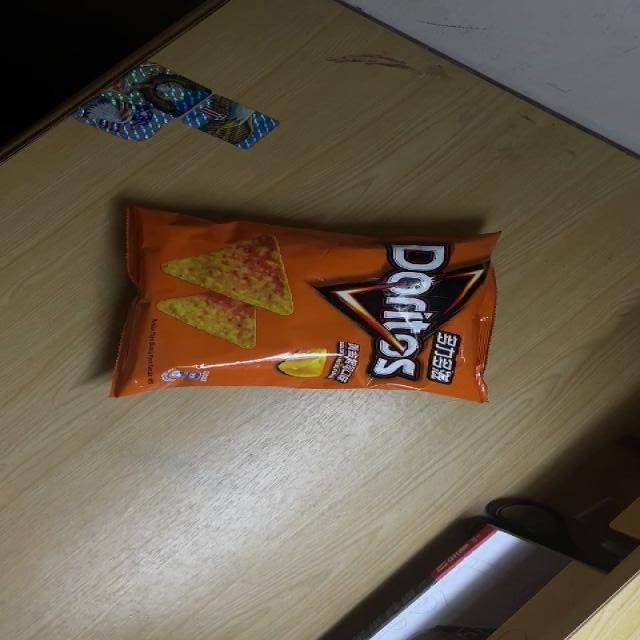Doritos: (108, 201, 505, 405)
